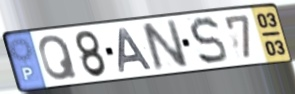7: (222, 12, 252, 61)
8: (74, 29, 108, 79)
A: (117, 26, 155, 74)
N: (138, 17, 191, 74)
Q: (37, 34, 80, 83)
S: (188, 15, 230, 67)
